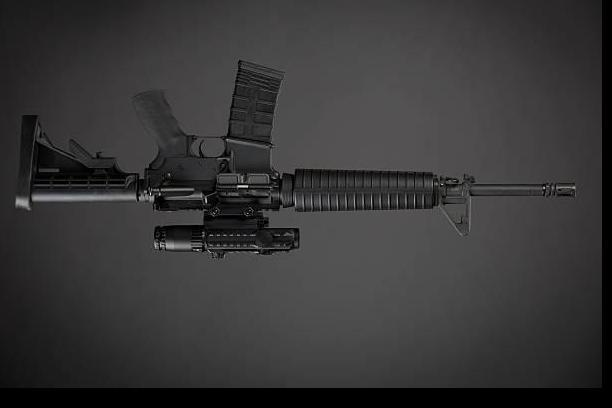larga: (15, 59, 579, 258)
